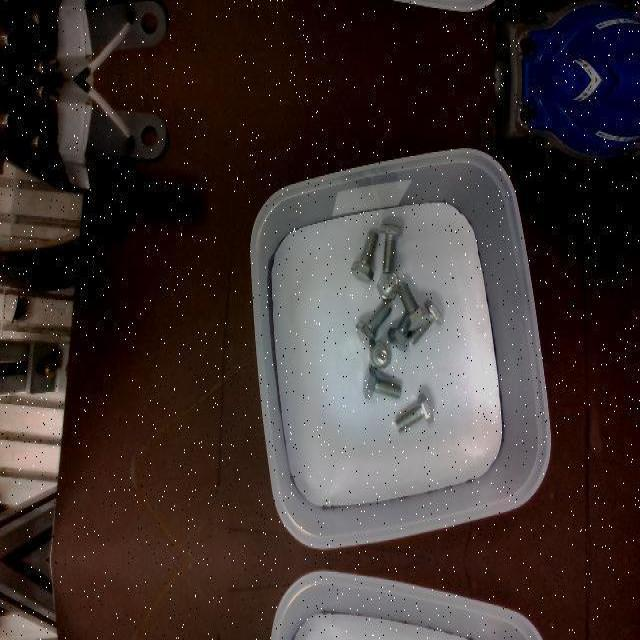screw: (355, 301, 391, 347), (395, 391, 434, 433), (396, 281, 428, 331), (350, 231, 378, 281), (363, 364, 401, 398), (378, 223, 402, 273), (370, 339, 391, 373), (376, 272, 398, 300)
